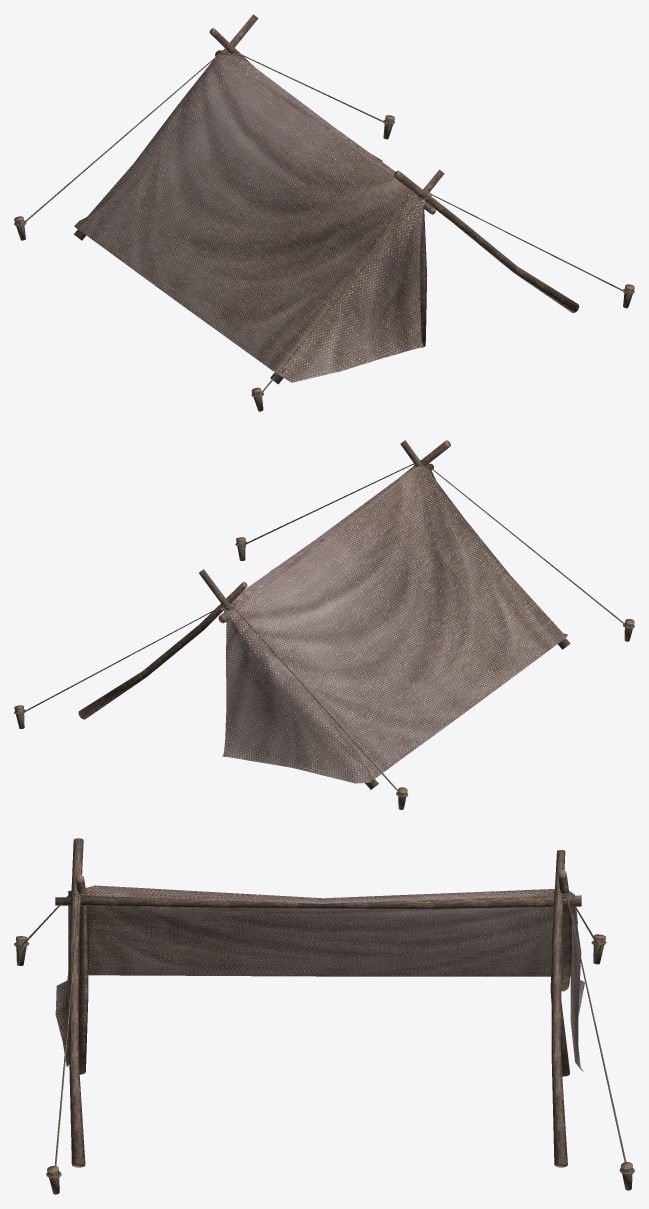
File: tent2.fbx
3 renders of one model, top to bottom at view 1: azimuth 30°, elevation 25°; view 2: azimuth 150°, elevation 25°; view 3: azimuth 270°, elevation 25°, orthographic. The views are drawn at different scales.
Parts seen in each view (by area): view 1: Plane_001, Plane, wood1; view 2: Plane_001, Plane, wood1; view 3: Plane_001, wood1, Plane.
Boxes of the visible parts, x1,y1,x2,y2 form: Plane_001: [74, 53, 425, 382]; Plane: [75, 53, 423, 381]; wood1: [14, 14, 634, 411]; Plane_001: [220, 464, 567, 783]; Plane: [222, 467, 565, 782]; wood1: [14, 440, 634, 809]; Plane_001: [55, 885, 584, 1071]; wood1: [14, 838, 634, 1194]; Plane: [55, 886, 583, 1069].
Bounding box in the file's own units: 201 × 88.88 × 222.
